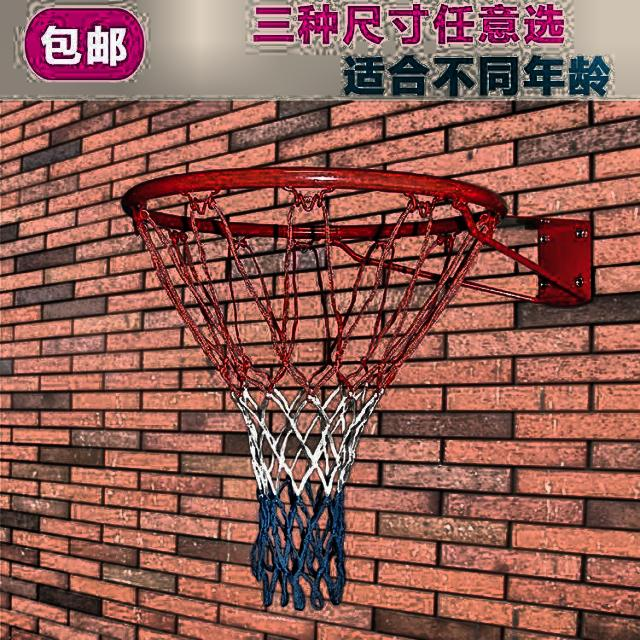rim: (121, 166, 500, 610)
